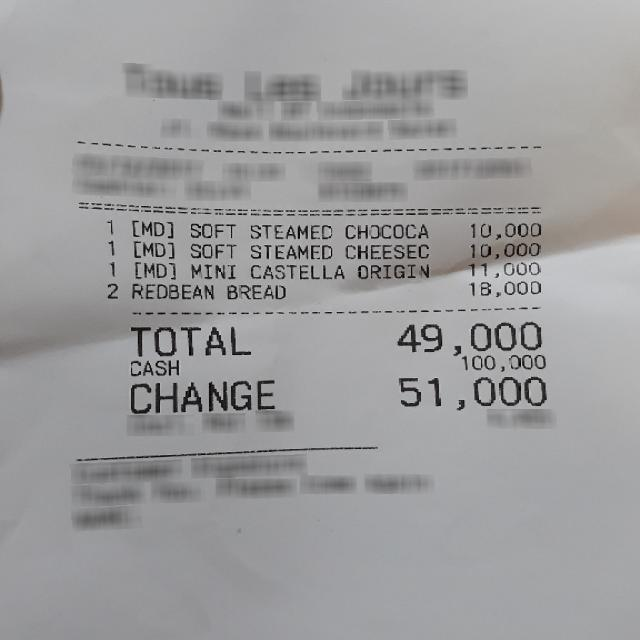kertas: (1, 0, 638, 640)
